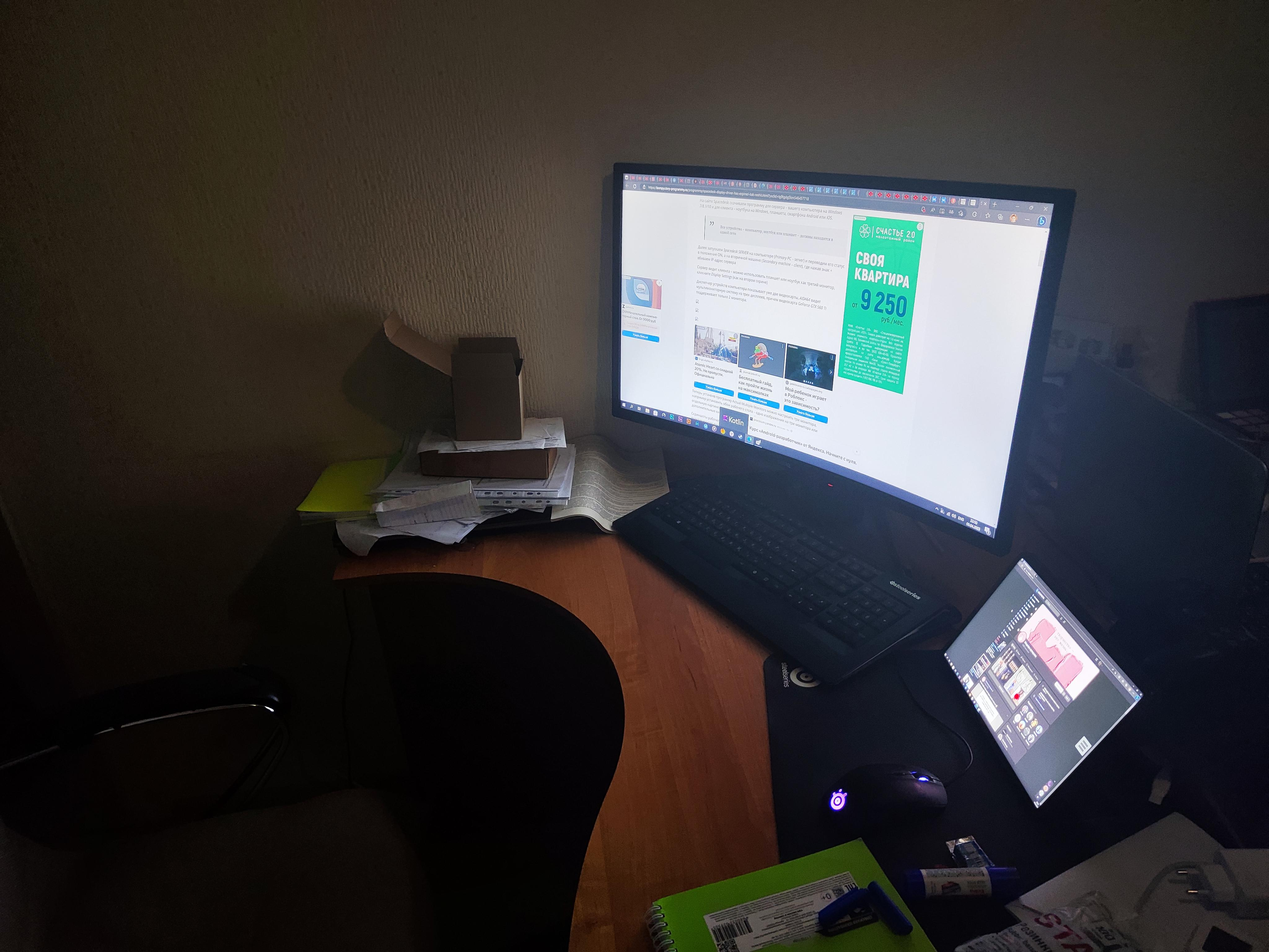monitor: (598, 158, 1075, 558)
